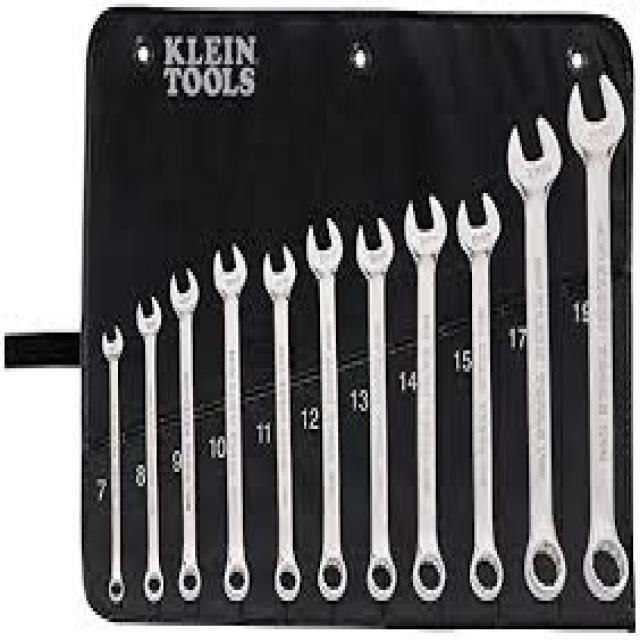wrench: (566, 70, 630, 602), (504, 110, 568, 600), (399, 191, 452, 606), (454, 180, 506, 602), (352, 208, 400, 602), (302, 208, 350, 602), (258, 238, 304, 603), (210, 240, 253, 603), (167, 262, 205, 600), (135, 292, 166, 604), (98, 320, 126, 602)
